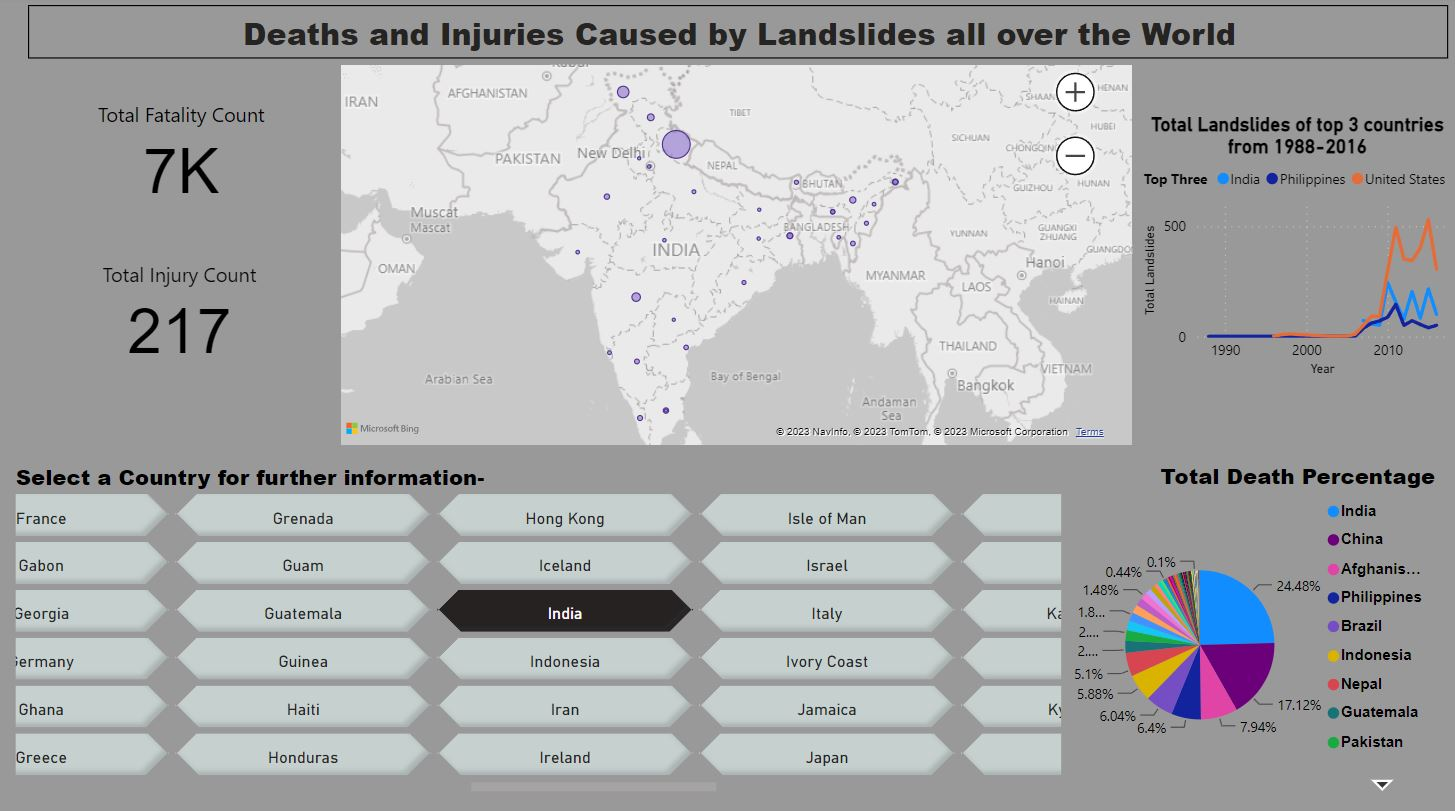

The page's visual inventory and layout, read from the dashboard file:
{"tool":"powerbi","page":{"name":"Global Landslide","canvas":[1280,720],"ordinal":0},"visuals":[{"type":"map","fields":{"Category":["Global_Landslide_Catalog_Export.admin_division_name"],"Size":["Sum(Global_Landslide_Catalog_Export.fatality_count)"]},"box":[295,54.4,705.1,344.2],"z":0},{"type":"cardVisual","fields":{"Data":["Sum(Global_Landslide_Catalog_Export.fatality_count)"]},"box":[25.6,57.2,269.2,162.7],"z":1000},{"type":"cardVisual","fields":{"Data":["Sum(Global_Landslide_Catalog_Export.injury_count)"]},"box":[21.7,197.2,273.2,162.7],"z":2000},{"type":"pieChart","title":"Total Death Percentage","fields":{"Y":["Sum(Global_Landslide_Catalog_Export.fatality_count)"],"Category":["Global_Landslide_Catalog_Export.country_name"]},"box":[938.6,406.5,327.5,297.7],"z":3000},{"type":"advancedSlicerVisual","title":"Select a Country for further information-","fields":{"Values":["Global_Landslide_Catalog_Export.country_name"]},"box":[9.9,407.3,928.9,297.8],"z":4000},{"type":"textbox","box":[25.6,6.9,1247.5,47.3],"z":5000},{"type":"lineChart","title":"Total Landslides of top 3 countries from 1988-2016","fields":{"Category":["Global_Landslide_Catalog_Export.event_date.Variation.Date Hierarchy.Year"],"Y":["CountNonNull(Global_Landslide_Catalog_Export.event_id)"],"Series":["Global_Landslide_Catalog_Export.country_name"]},"box":[1000.1,101.9,280.1,235.3],"z":6000}]}

Visuals, with their boxes in screenshot pixels (x1, y1, x2, y2), scaled from the page's 1280x720 canvas onto the 1455x811 screenshot:
map - Global_Landslide_Catalog_Export.admin_division_name x Sum(Global_Landslide_Catalog_Export.fatality_count): 335/61/1137/449
cardVisual - Sum(Global_Landslide_Catalog_Export.fatality_count): 29/64/335/248
cardVisual - Sum(Global_Landslide_Catalog_Export.injury_count): 25/222/335/405
"Total Death Percentage" pieChart: 1067/458/1439/793
"Select a Country for further information-" advancedSlicerVisual: 11/459/1067/794
textbox: 29/8/1447/61
"Total Landslides of top 3 countries from 1988-2016" lineChart: 1137/115/1454/380
